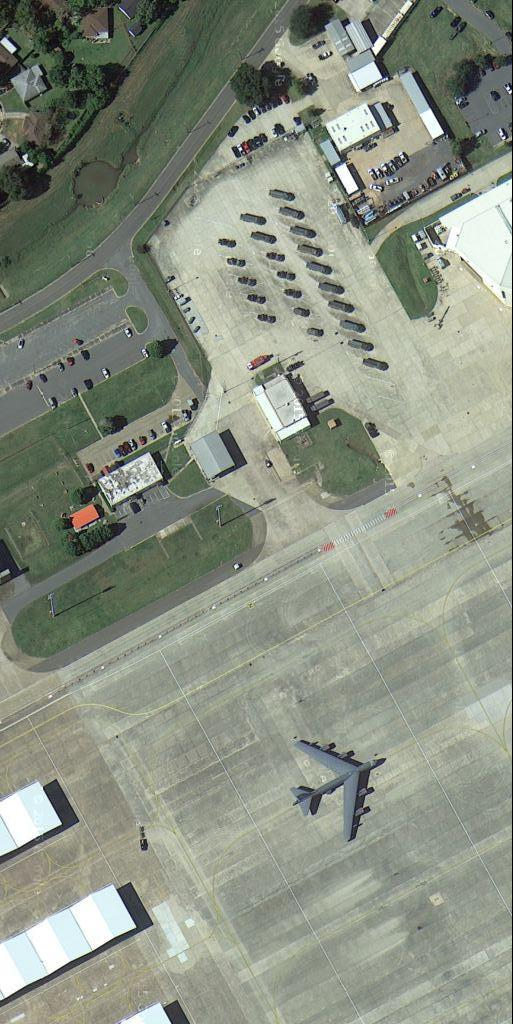B-52: (286, 735, 385, 845)
